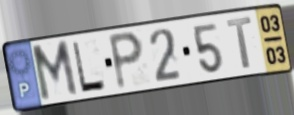2: (148, 27, 183, 85)
5: (190, 20, 226, 74)
L: (70, 39, 109, 94)
M: (29, 38, 81, 105)
P: (106, 29, 146, 93)
T: (225, 14, 254, 71)
